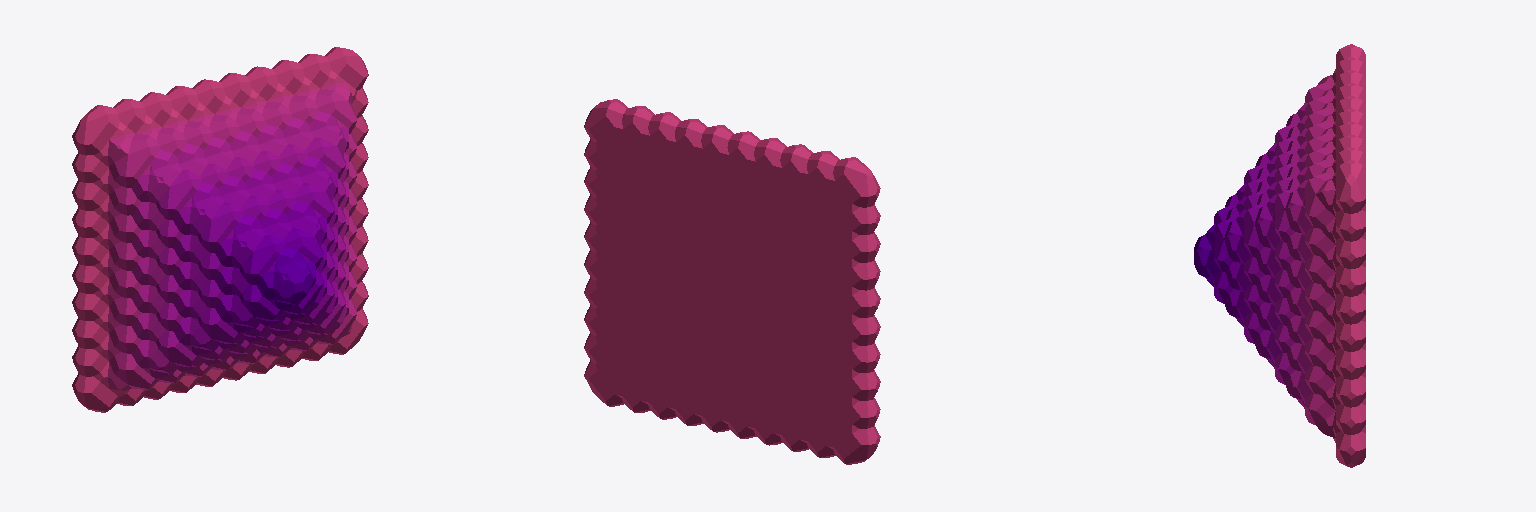
3 renders of one model, left to right at view 1: azimuth 30°, elevation 25°; view 2: azimuth 150°, elevation 25°; view 3: azimuth 270°, elevation 25°, orthographic.
Visible parts, largest first — view 1: vivid_3d_obj; view 2: vivid_3d_obj; view 3: vivid_3d_obj.
Boxes of the visible parts, x1,y1,x2,y2 form: vivid_3d_obj: [72, 47, 368, 412]; vivid_3d_obj: [584, 99, 880, 464]; vivid_3d_obj: [1194, 44, 1365, 467].
Bounding box in the file's own units: 22 × 22 × 11.33.
1 materials, 1 textured.